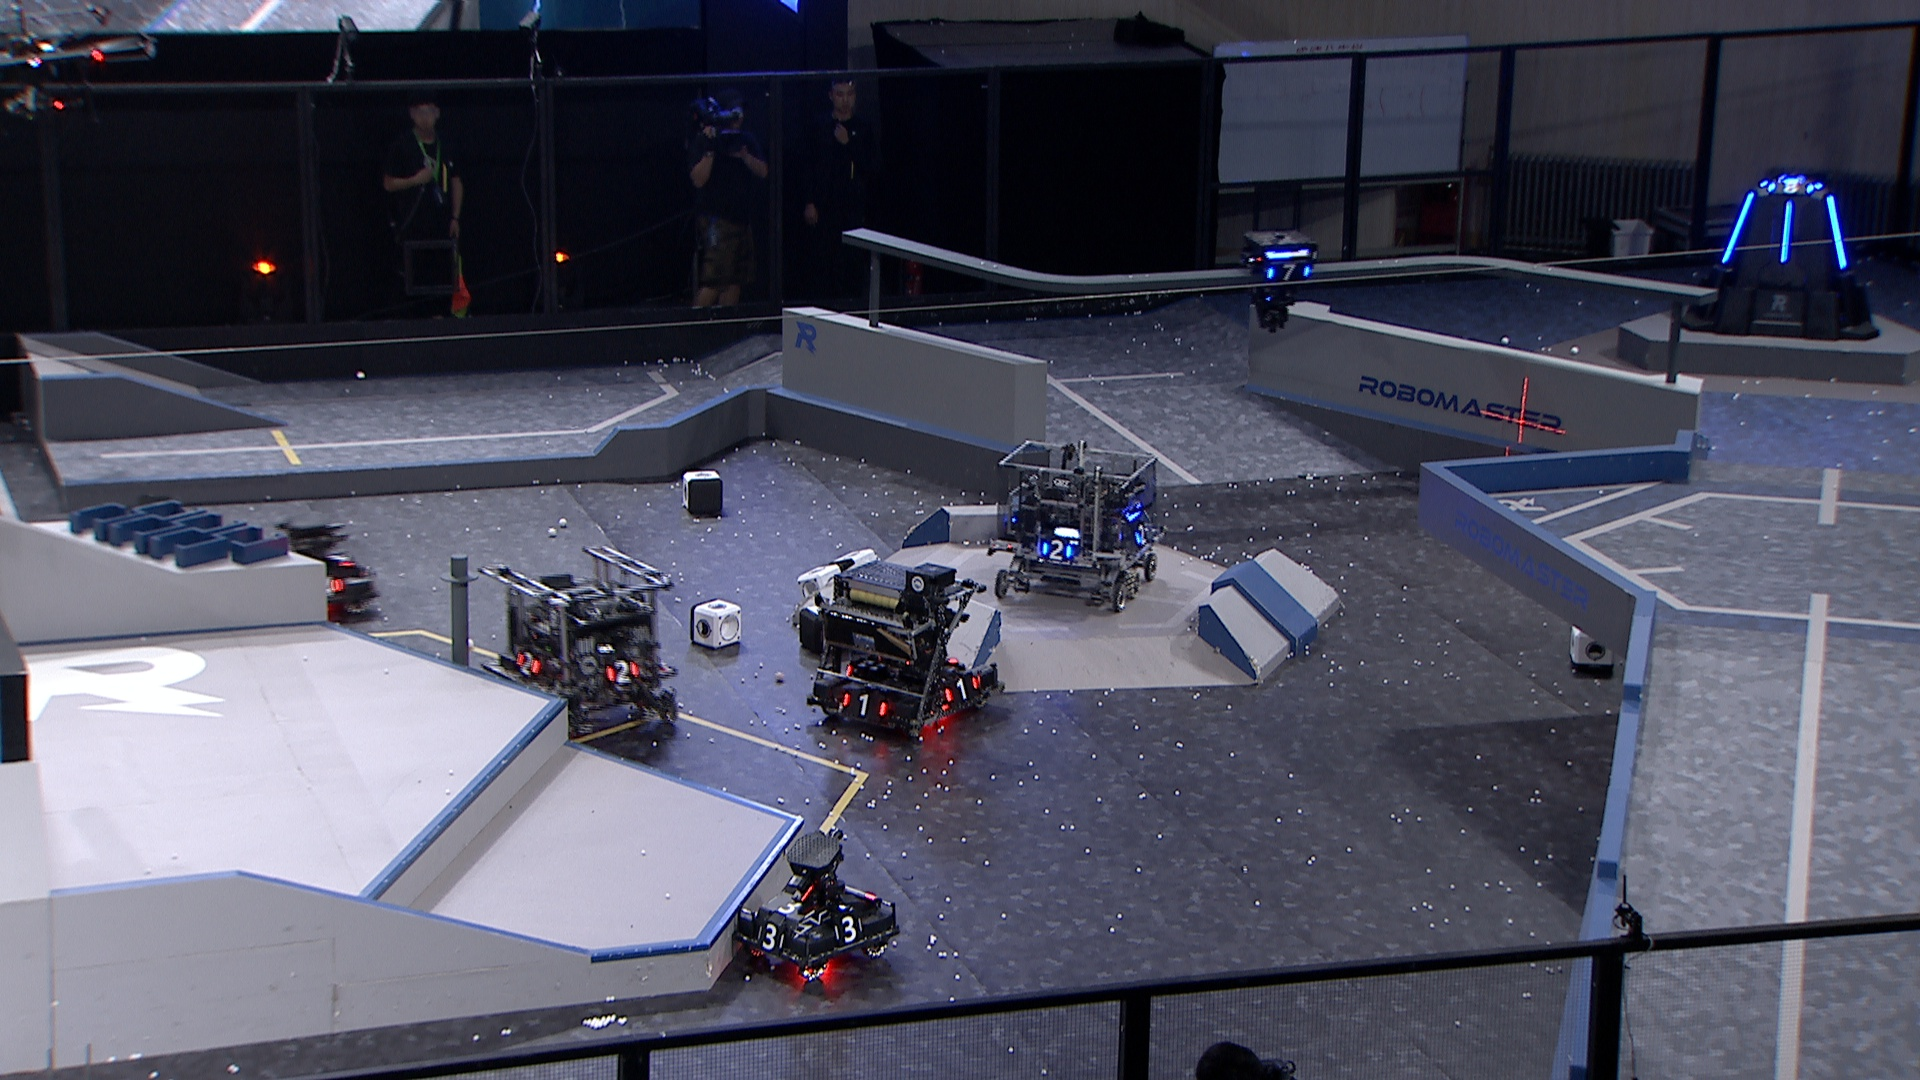armor: (1720, 191, 1759, 266), (1822, 193, 1850, 270), (837, 692, 887, 721), (769, 894, 814, 918), (942, 676, 978, 704), (1266, 262, 1313, 284), (1778, 200, 1793, 264), (756, 920, 785, 953), (605, 659, 640, 687), (1040, 537, 1073, 564), (828, 915, 861, 943), (1766, 179, 1813, 196), (516, 650, 542, 678), (327, 549, 359, 568), (1133, 524, 1150, 549)
base: (1681, 174, 1884, 342)
car: (483, 545, 680, 742), (804, 556, 1002, 744), (986, 436, 1158, 615), (735, 833, 898, 984), (248, 516, 378, 618)
watcher: (1242, 229, 1317, 334)
